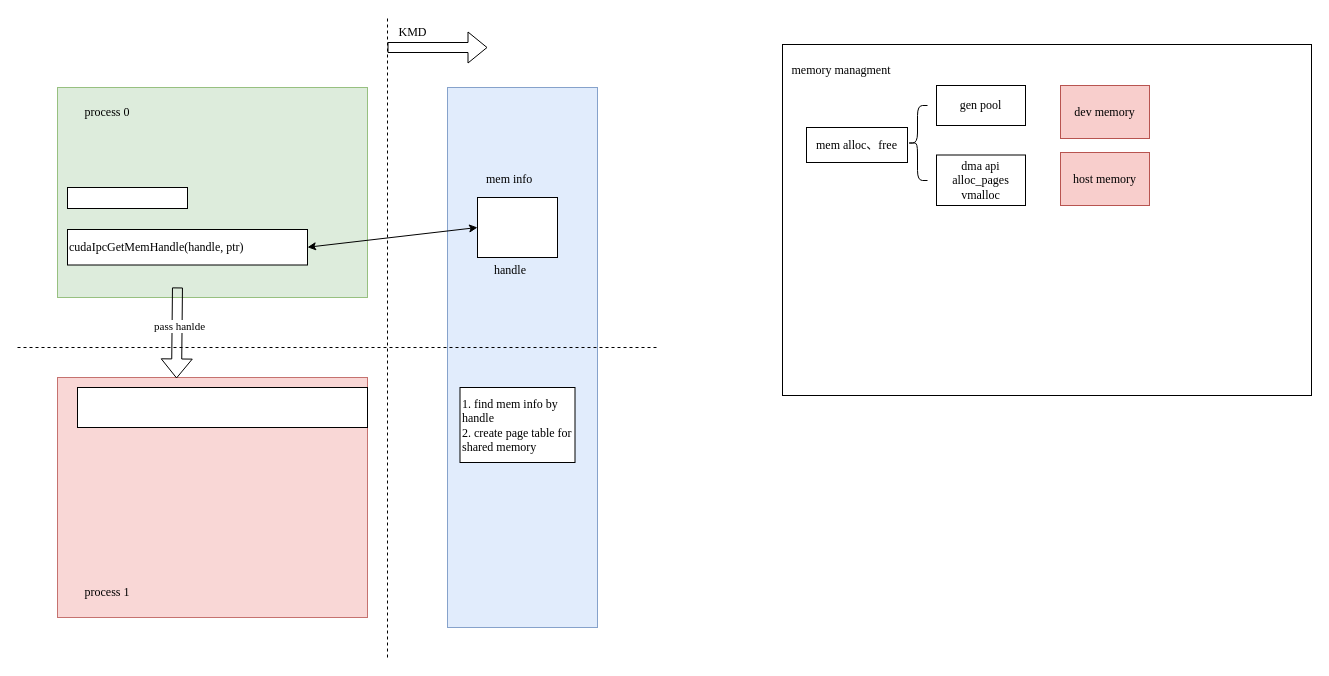
Image size: 1329x676. Some labels were removed from this diagram. The shapes that lost their labels are listed below. From the top down, each one's centre as x and y in pixels, then its label:
At (127,197): "cudaMalloc(ptr)".
At (517,227): "1. mem location 2. mem size ……".
At (222,407): "cudaIpcOpenMemHandle(handler, ptr)".
